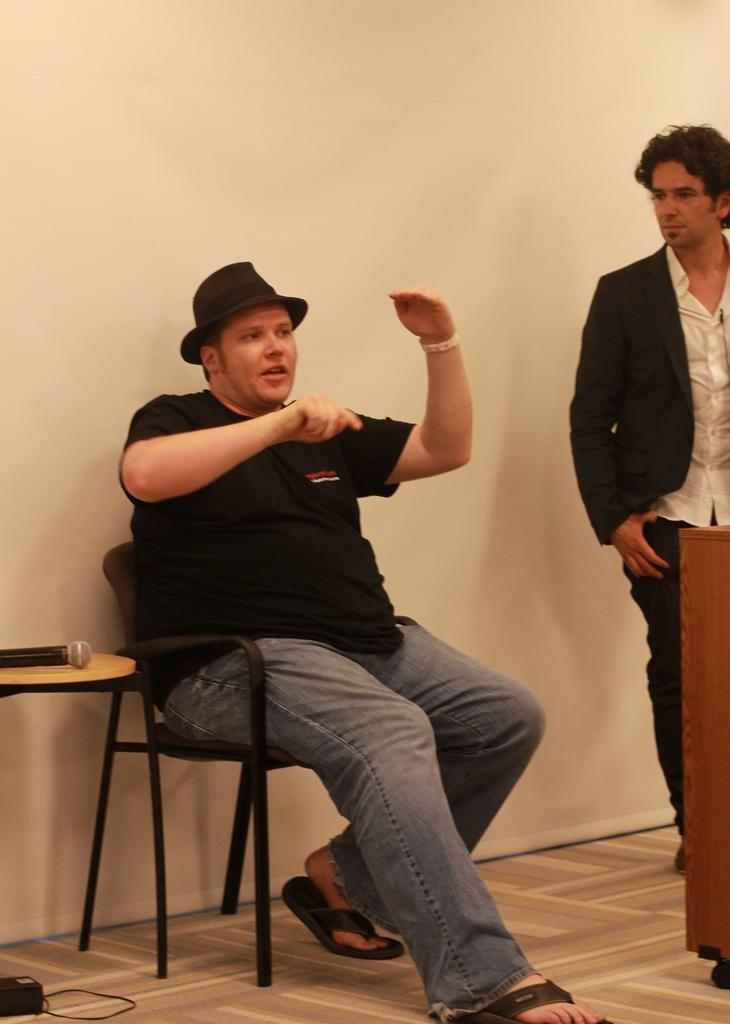Hat: (178, 259, 316, 365)
